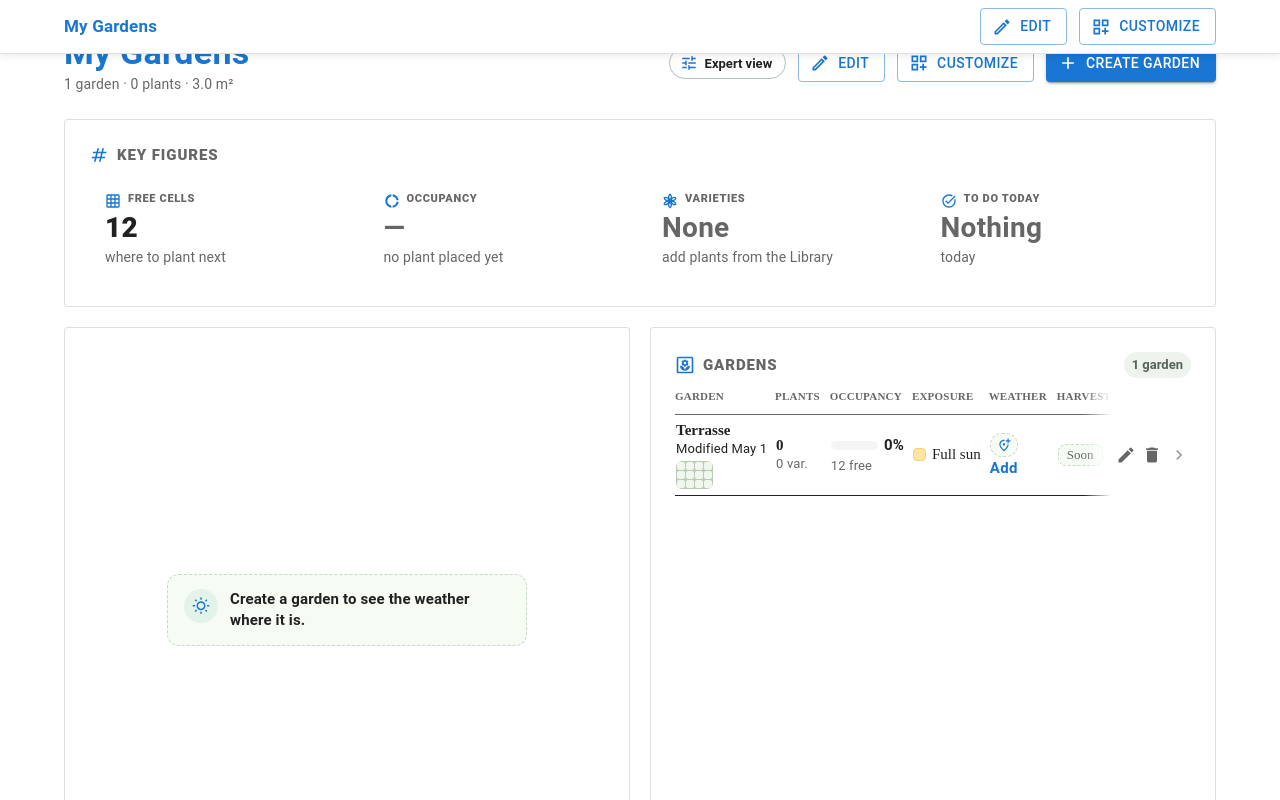
Test: the compact action bar, out of Edit mode (SMA-437, lot V39, B4) › acts as the header does: Edit enters Edit mode, Customize opens the panel
Click the 1st button "Edit" at (1024, 27), box [980,8,1067,45]
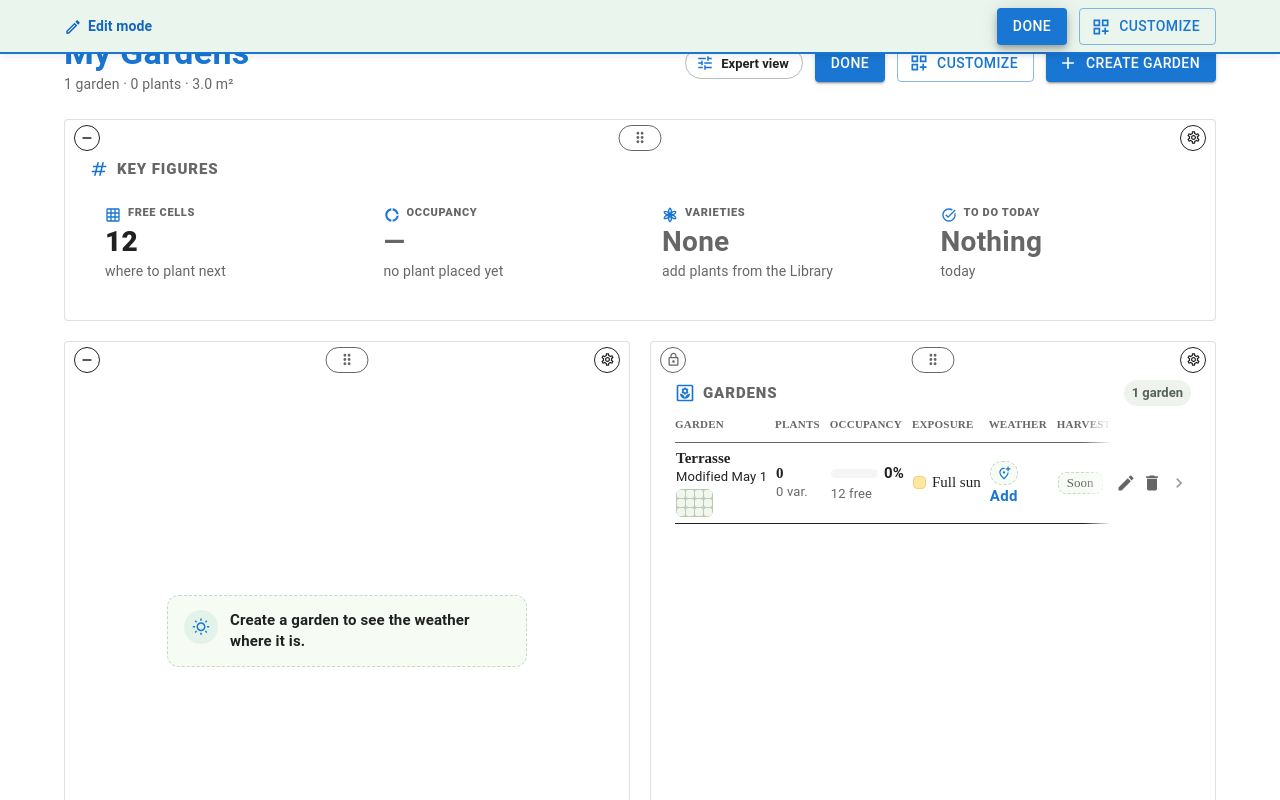
Expected: the button named "Edit" reads "Done", [997,8,1067,45]
Expected: the button "Done" next to "Expert view" is shown, [815,45,885,82]
Click the button "Customize" in the row of "Edit mode" at (1148, 27), box [1079,8,1216,45]
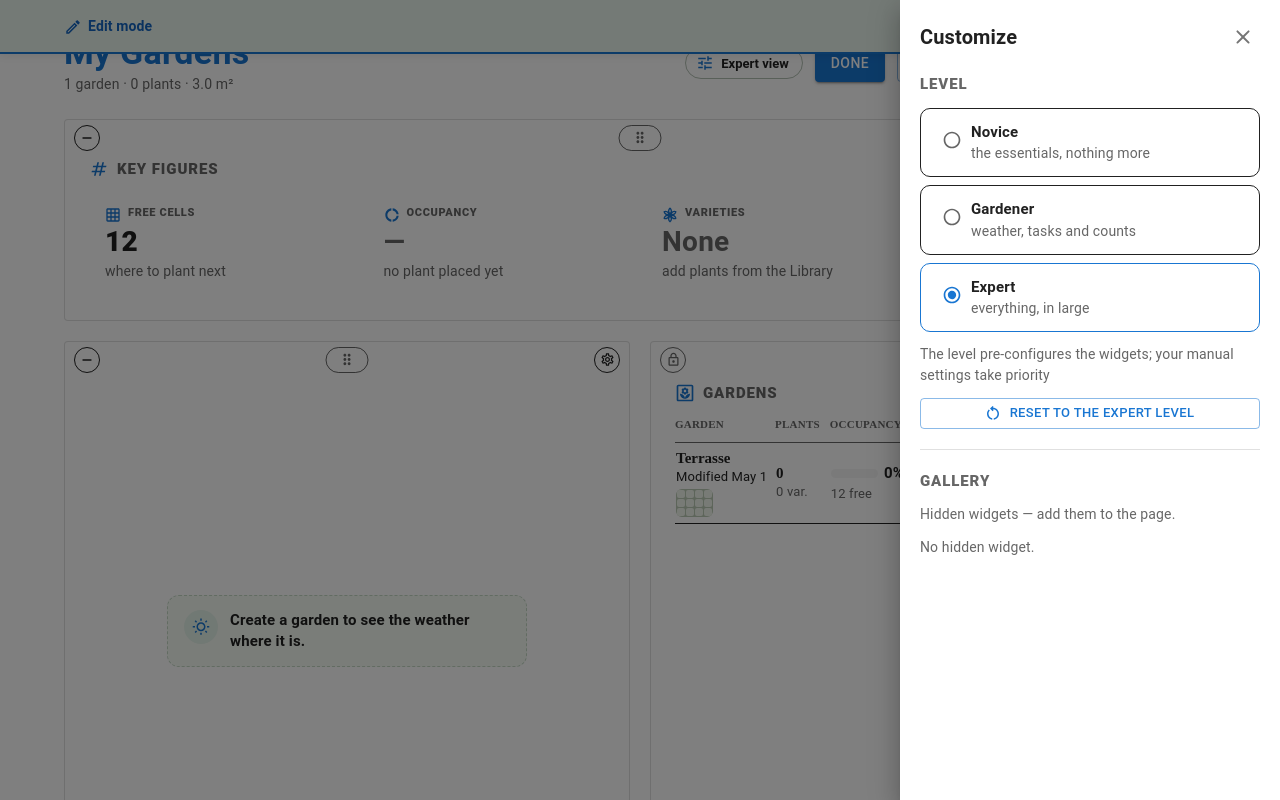
Expected: the dialog "Customize" is shown, [900,0,1279,799]
